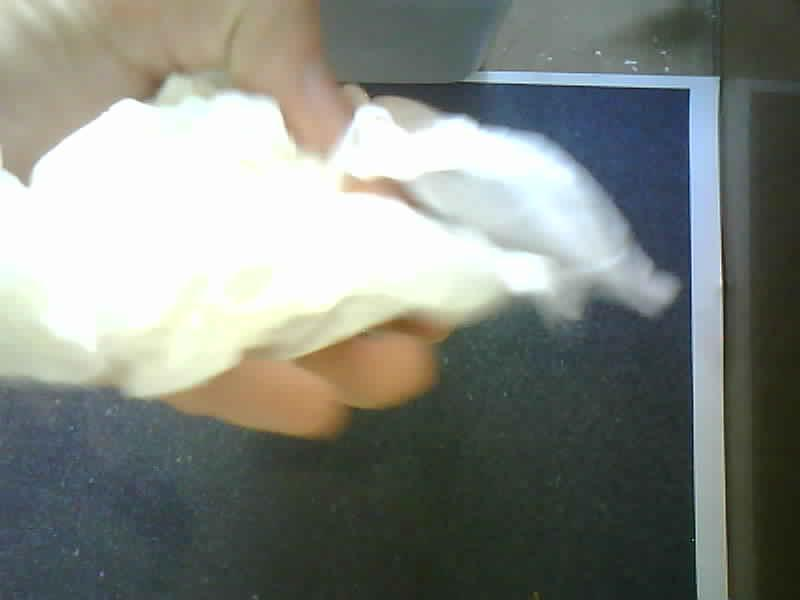paper: (1, 77, 678, 397)
